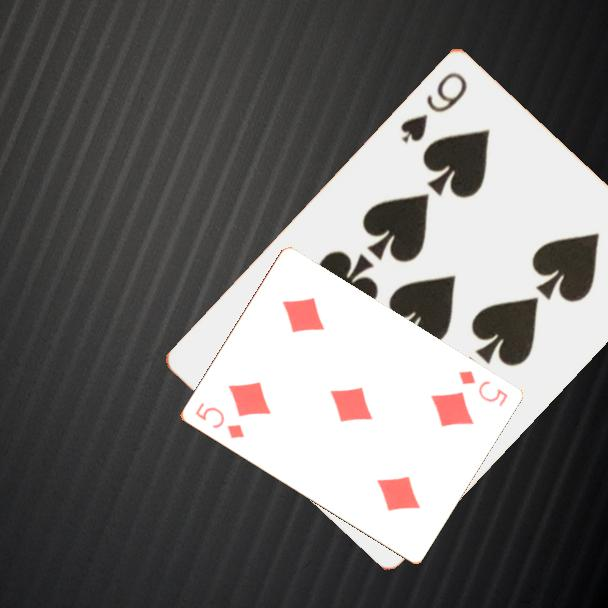d05: (191, 399, 247, 442), (454, 367, 510, 410)
s09: (396, 68, 470, 145)
